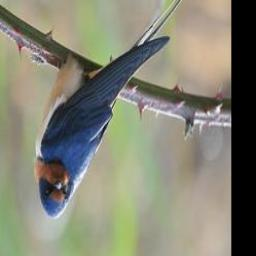Swallow: (32, 0, 195, 221)
